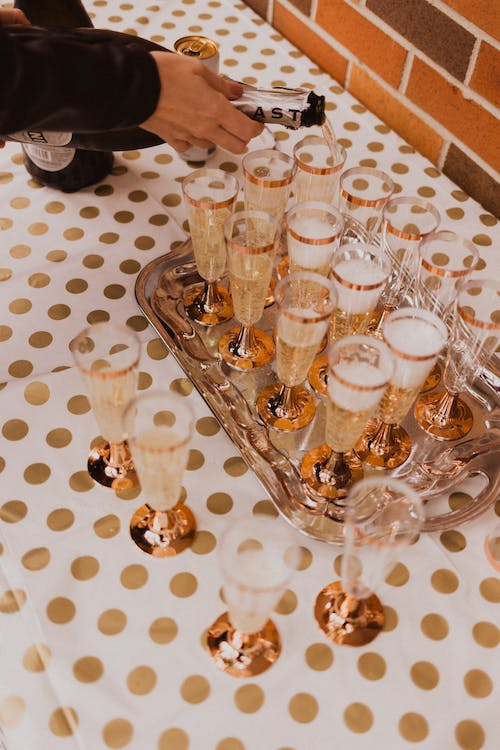alcohol: (0, 26, 327, 154), (10, 0, 115, 193), (312, 473, 426, 648), (201, 511, 303, 677), (298, 335, 395, 500), (353, 306, 448, 470), (413, 281, 500, 442), (253, 270, 338, 434), (119, 386, 199, 560), (307, 241, 393, 398), (72, 320, 142, 492), (216, 209, 281, 374), (366, 199, 442, 336), (179, 166, 241, 328), (239, 145, 300, 308), (171, 33, 221, 164), (413, 231, 482, 317), (284, 198, 346, 279), (340, 165, 397, 244), (296, 136, 349, 207)
